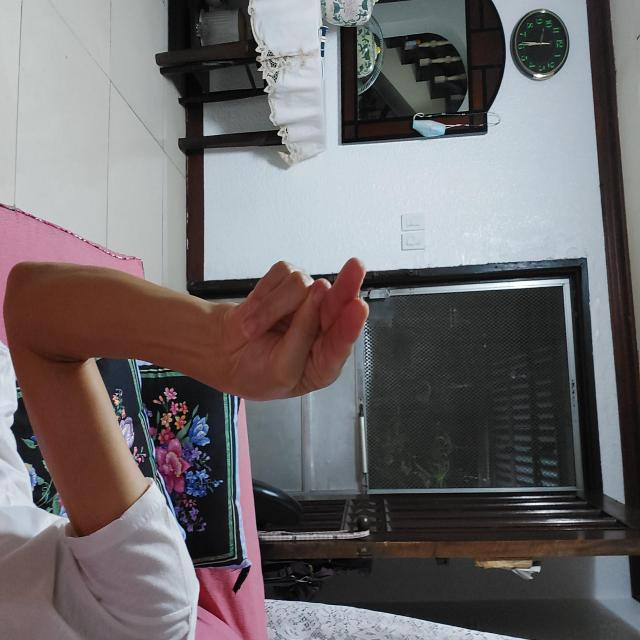N: (257, 270, 402, 427)
